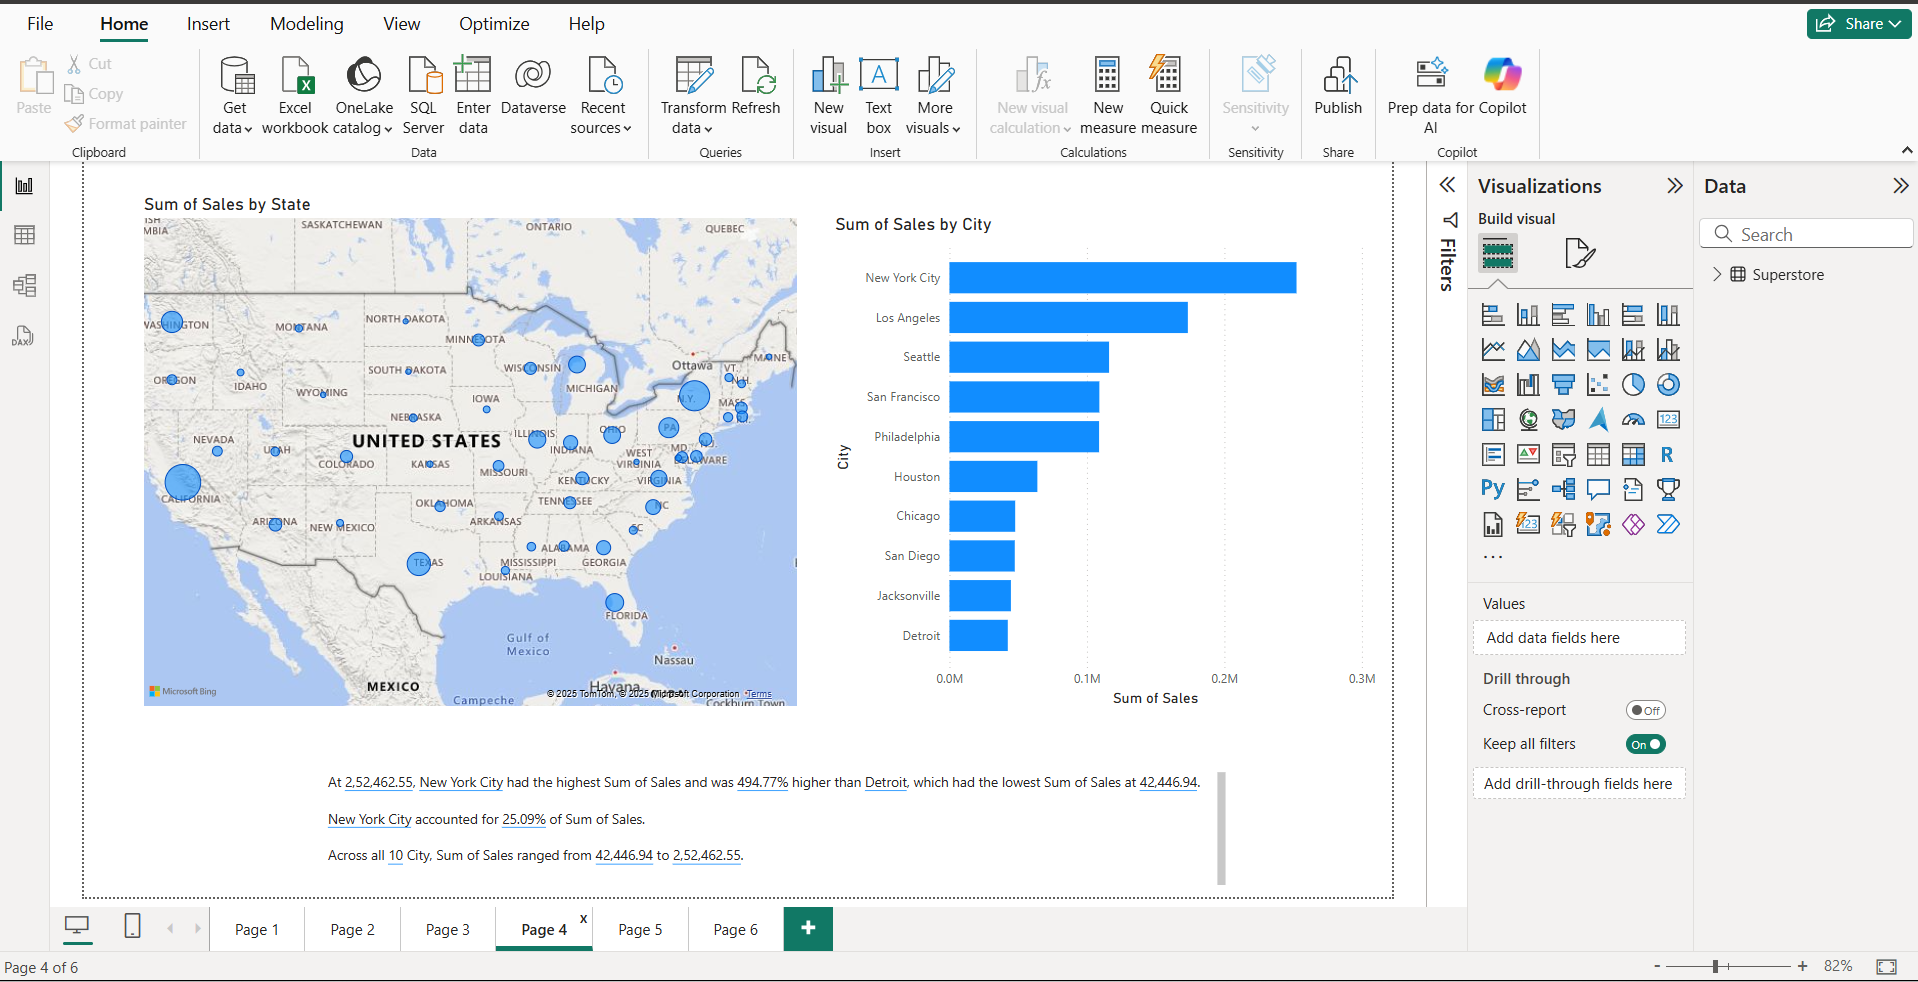

The dashboard page shown, as its layout file describes it:
{"tool":"powerbi","page":{"name":"Page 4","canvas":[1280,720],"ordinal":3},"visuals":[{"type":"map","fields":{"Category":["train.State"],"Size":["Sum(train.Sales)"]},"box":[53.5,31.6,649.1,506.3],"z":0},{"type":"clusteredBarChart","fields":{"Category":["train.City"],"Y":["Sum(train.Sales)"]},"box":[730,50.8,539.3,487.1],"z":1000},{"type":"textbox","box":[233.3,592.8,887.8,127.6],"z":2000}]}

Visuals, with their boxes on the page's 1280x720 design canvas (x1, y1, x2, y2). These are canvas units, not pixel positions in the 1918x982 screenshot, which may show the page scaled, cropped or inside an application window:
map - train.State x Sum(train.Sales): {"x1": 54, "y1": 32, "x2": 703, "y2": 538}
clusteredBarChart - train.City x Sum(train.Sales): {"x1": 730, "y1": 51, "x2": 1269, "y2": 538}
textbox: {"x1": 233, "y1": 593, "x2": 1121, "y2": 720}
